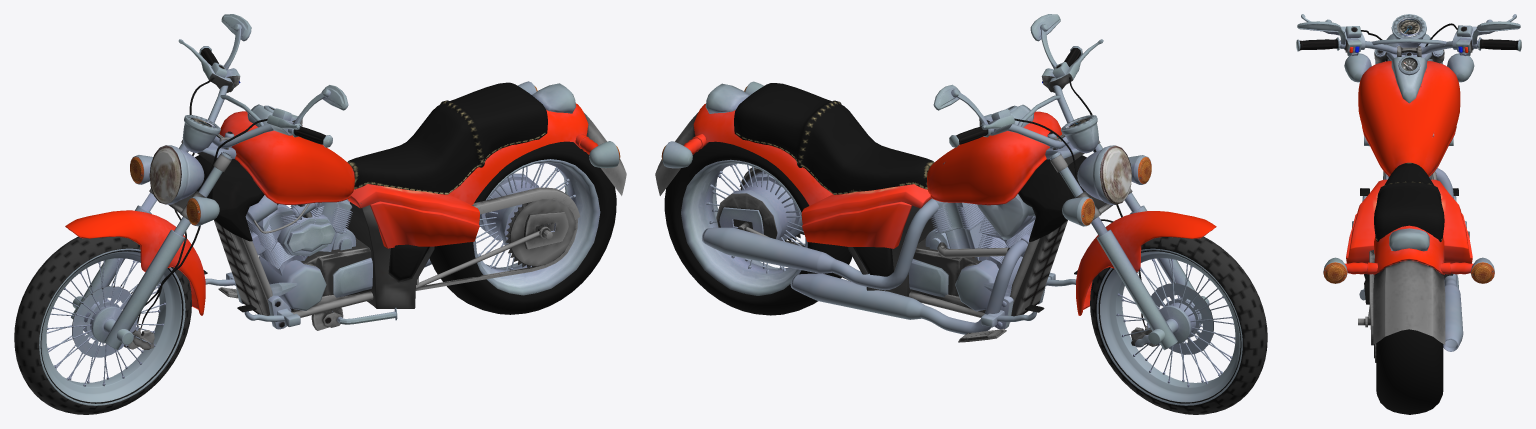
The model's file is Moto.glb.
3 views of the same model, side by side, from view 1: azimuth 30°, elevation 25°; view 2: azimuth 150°, elevation 25°; view 3: azimuth 270°, elevation 25° (orthographic). The views are drawn at different scales.
Parts seen in each view (by area): view 1: Plane687; view 2: Plane687; view 3: Plane687.
Boxes of the visible parts, x1=… form: Plane687: x1=14, y1=14, x2=626, y2=414; Plane687: x1=655, y1=14, x2=1267, y2=414; Plane687: x1=1296, y1=14, x2=1521, y2=414.
Size of the model in its own units: 1472 by 734 by 529.
Materials: 1 (1 with a texture image).
